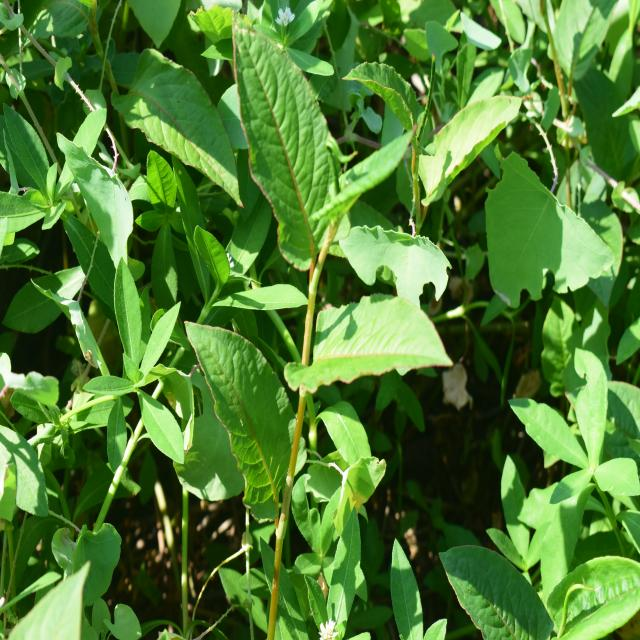Chinese_knotweed: (224, 18, 436, 417)
